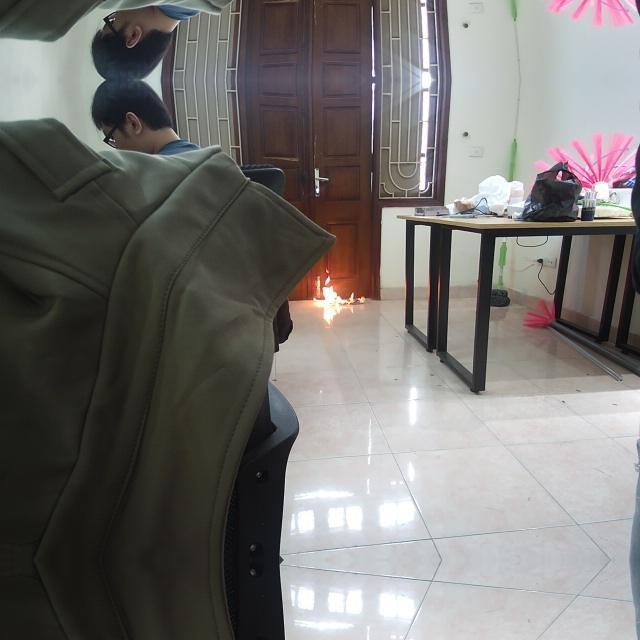smoke: (312, 268, 365, 307)
